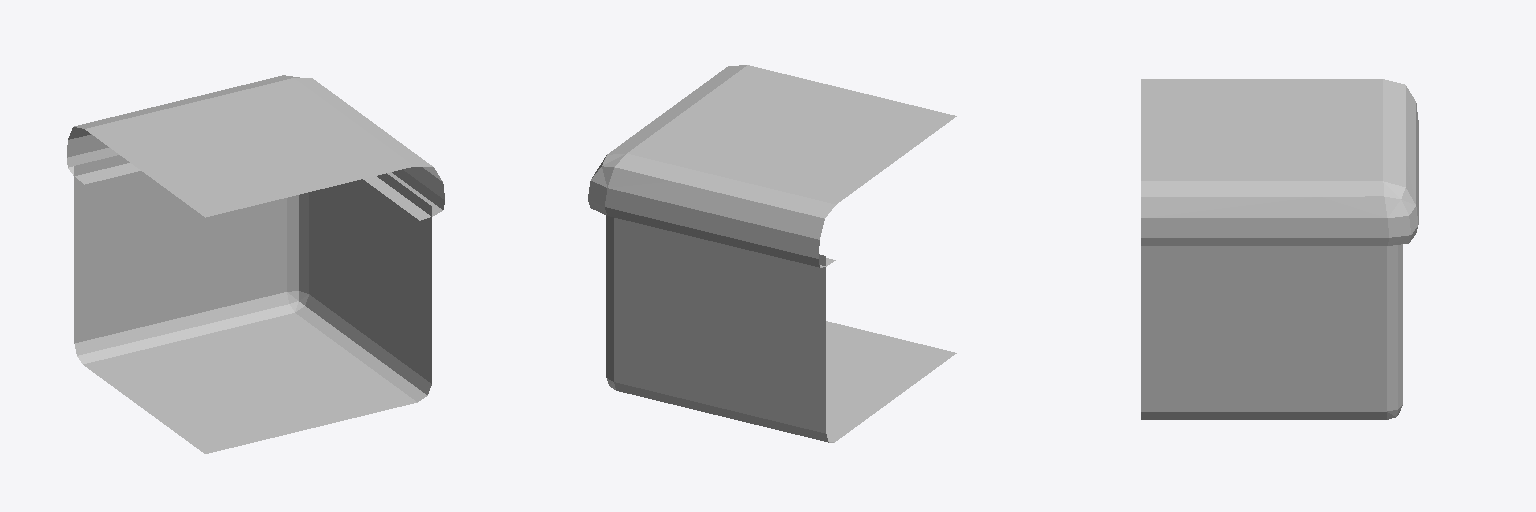
Rendered from cube_grass_corner_topRight.obj.
3 renders of one model, left to right at view 1: azimuth 30°, elevation 25°; view 2: azimuth 150°, elevation 25°; view 3: azimuth 270°, elevation 25°, orthographic.
Parts seen in each view (by area): view 1: cube_grass_corner; view 2: cube_grass_corner; view 3: cube_grass_corner.
Part boxes in pixels (left/top/right/bottom): cube_grass_corner: left=67, top=75, right=444, bottom=453; cube_grass_corner: left=588, top=65, right=956, bottom=442; cube_grass_corner: left=1141, top=79, right=1418, bottom=419.
Bounding box in the file's own units: 1.06 × 0.998 × 1.06.